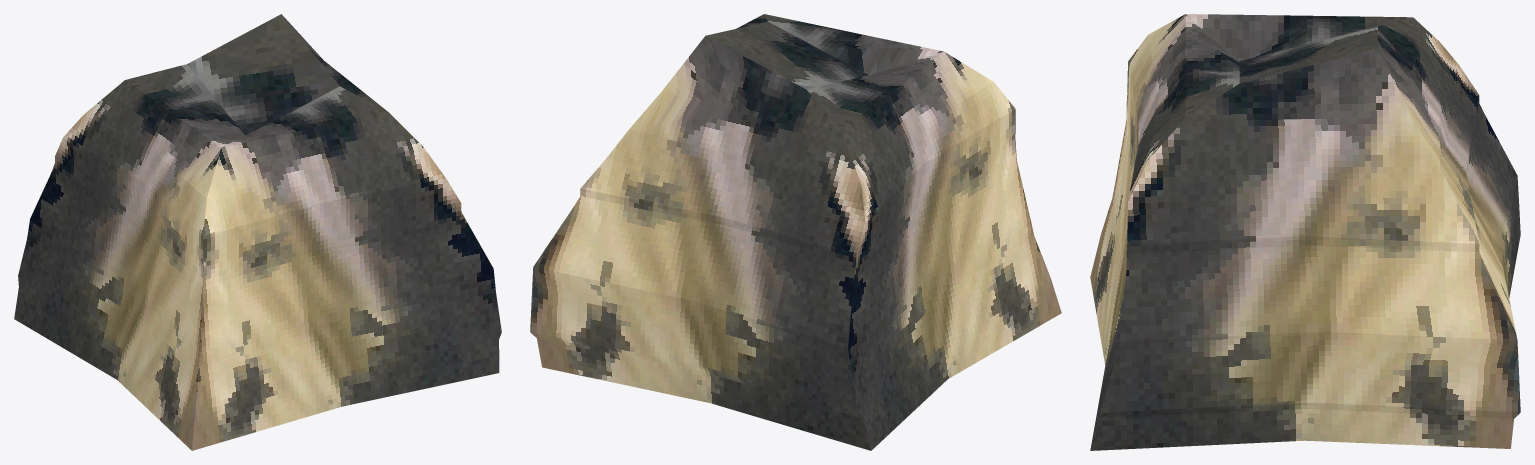
3 renders of one model, left to right at view 1: azimuth 30°, elevation 25°; view 2: azimuth 150°, elevation 25°; view 3: azimuth 270°, elevation 25°, orthographic. The views are drawn at different scales.
Parts seen in each view (by area): view 1: SPLICE_1; view 2: SPLICE_1; view 3: SPLICE_1.
Part boxes in pixels (<box>): SPLICE_1: <box>14,14,501,450</box>; SPLICE_1: <box>530,14,1061,450</box>; SPLICE_1: <box>1090,14,1520,450</box>.
Bounding box in the file's own units: 1.14 × 1.03 × 1.14.
Materials: 1 (1 with a texture image).
